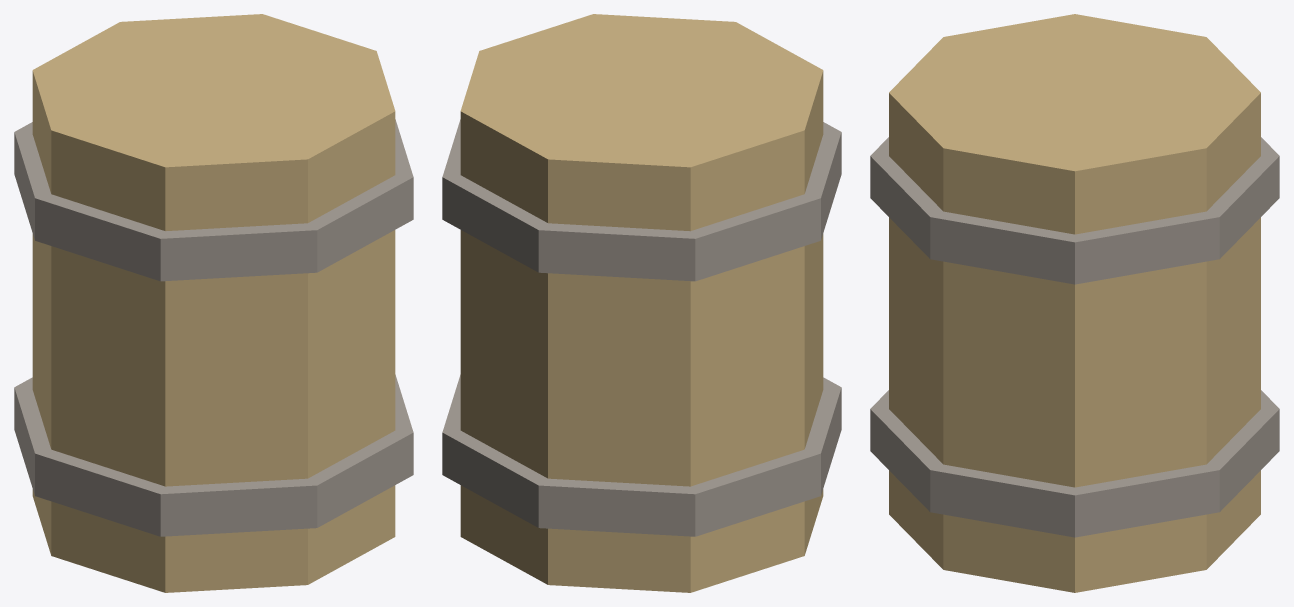
The model's file is water_barrel.glb.
The picture shows the model from 3 angles, left to right: view 1: azimuth 30°, elevation 25°; view 2: azimuth 150°, elevation 25°; view 3: azimuth 270°, elevation 25°; orthographic projection.
Visible parts, largest first — view 1: barrel, b1, b2; view 2: barrel, b1, b2; view 3: barrel, b1, b2.
Part boxes in pixels (x1,y1,x2,y2): barrel: [32, 14, 395, 592]; b1: [14, 374, 413, 536]; b2: [14, 119, 413, 281]; barrel: [460, 14, 823, 592]; b1: [442, 374, 841, 536]; b2: [442, 119, 841, 281]; barrel: [889, 14, 1260, 592]; b1: [870, 390, 1279, 537]; b2: [870, 137, 1279, 284].
Bounding box in the file's own units: 0.044 × 0.05 × 0.044.
